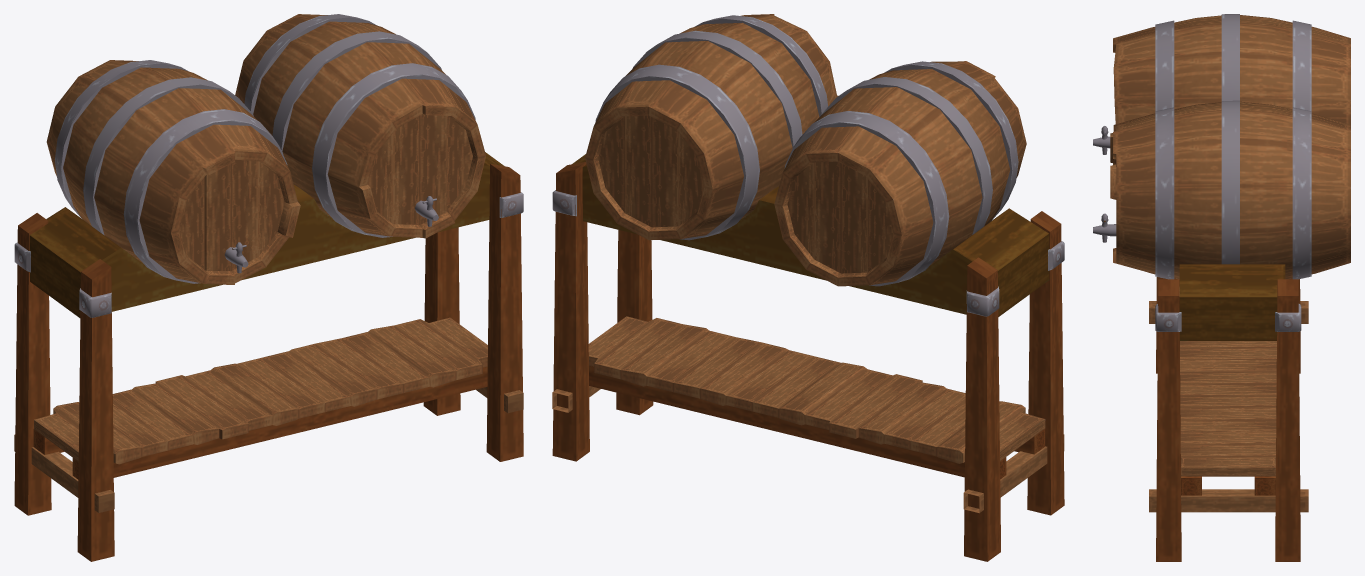
The model's file is Barrel_Holder.gltf.
3 renders of one model, left to right at view 1: azimuth 30°, elevation 25°; view 2: azimuth 150°, elevation 25°; view 3: azimuth 270°, elevation 25°, orthographic. The views are drawn at different scales.
Visible parts, largest first — view 1: Barrel_Holder; view 2: Barrel_Holder; view 3: Barrel_Holder.
Part boxes in pixels (bbox=[...]): Barrel_Holder: bbox=[14, 14, 523, 561]; Barrel_Holder: bbox=[552, 14, 1064, 561]; Barrel_Holder: bbox=[1093, 14, 1350, 561].
Size of the model in its own units: 1.36 by 1.26 by 0.741.
Materials: 2 (2 with a texture image).
